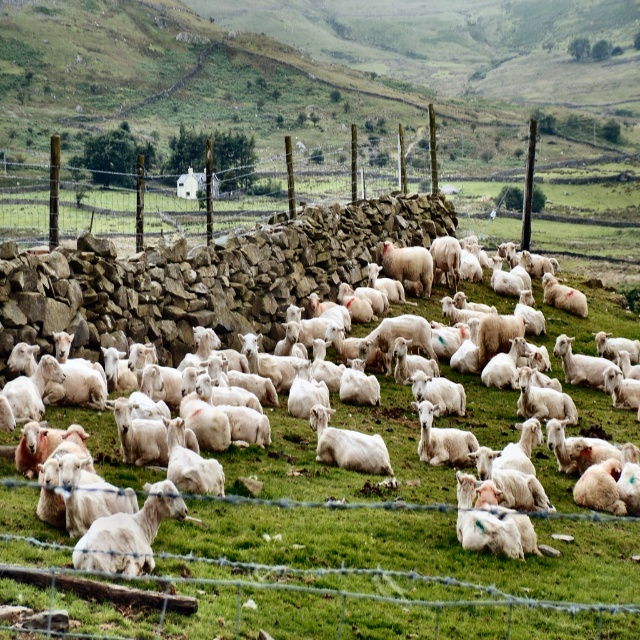Sheep: (0, 235, 640, 580)
